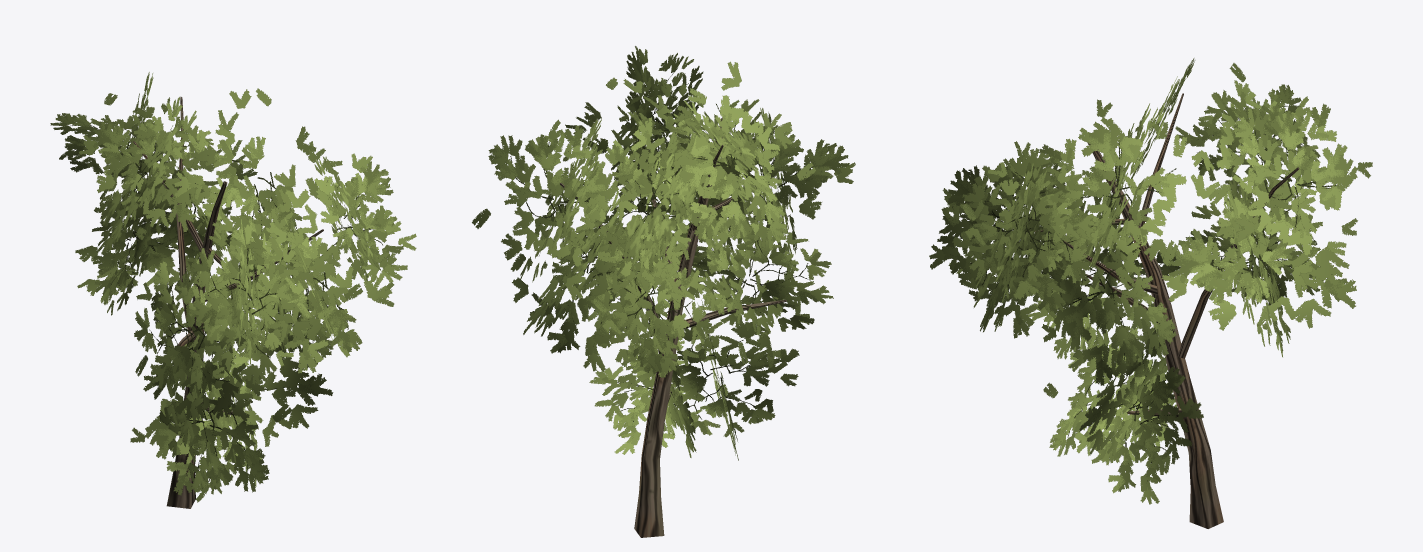
The model's file is sapling-c.lod1.glb.
3 views of the same model, side by side, from view 1: azimuth 30°, elevation 25°; view 2: azimuth 150°, elevation 25°; view 3: azimuth 270°, elevation 25° (orthographic). The views are drawn at different scales.
Visible parts, largest first — view 1: foliage, bark; view 2: foliage, bark; view 3: foliage, bark.
Boxes of the visible parts, x1=… form: foliage: x1=50, y1=72, x2=416, y2=502; bark: x1=133, y1=97, x2=323, y2=508; foliage: x1=472, y1=46, x2=855, y2=460; bark: x1=560, y1=117, x2=786, y2=537; foliage: x1=929, y1=58, x2=1372, y2=504; bark: x1=1034, y1=93, x2=1299, y2=528.
Size of the model in its own units: 0.8244 by 1.3 by 1.18.
Materials: 2 (2 with a texture image).
